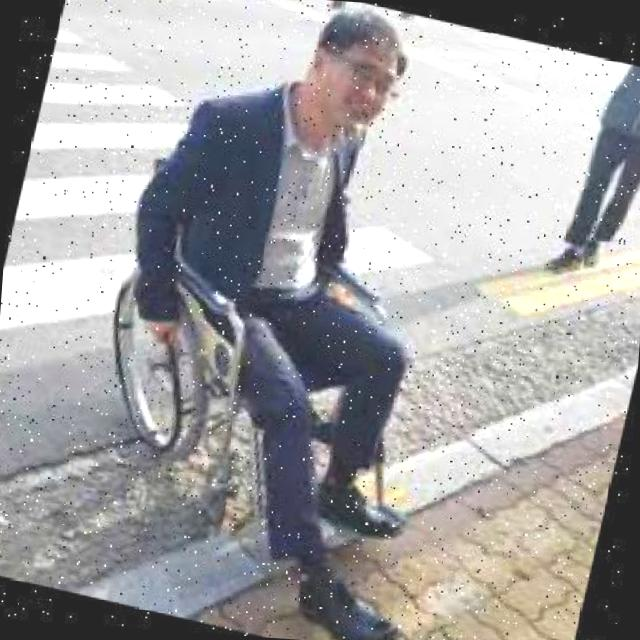Person: (49, 0, 528, 640)
